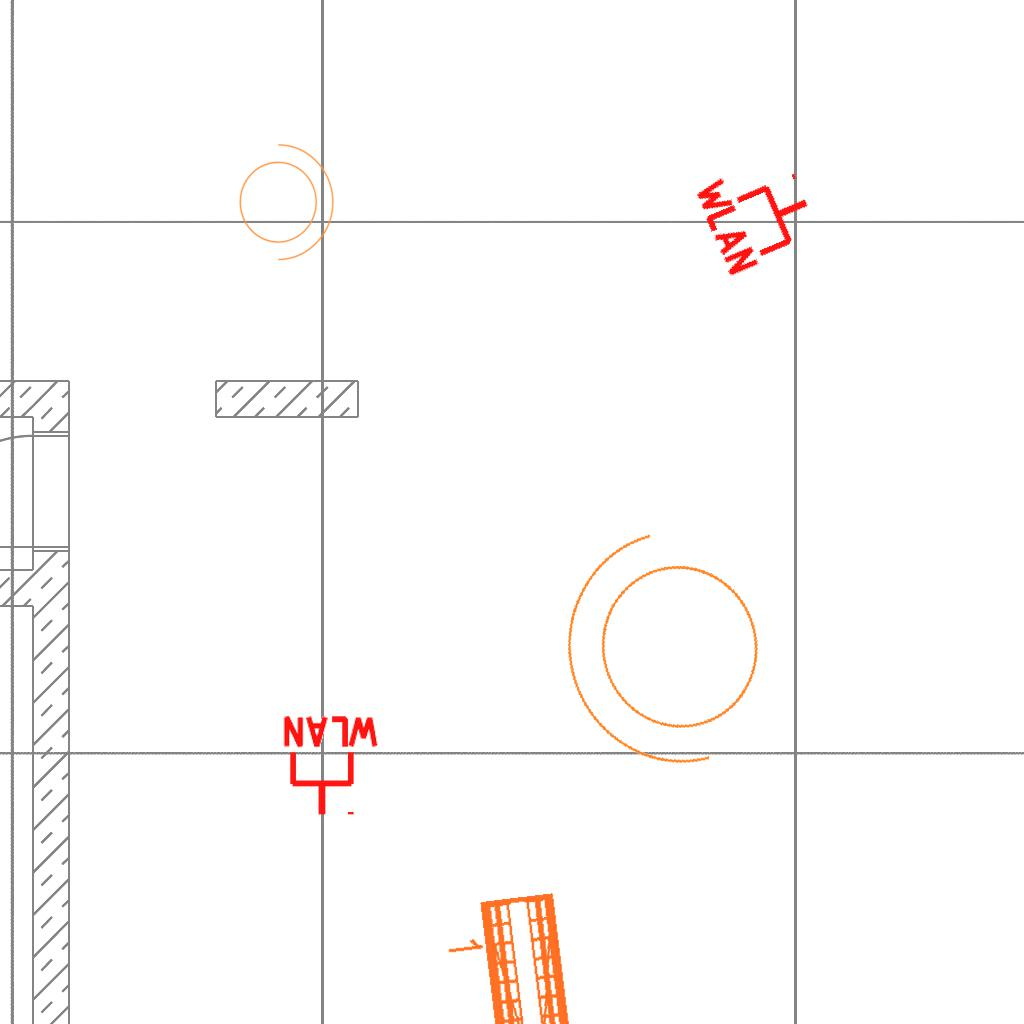Buero_Pendelleuchten_LED: (432, 885, 613, 1024)
Scheinwerfer_fuer_Alarmbeleuchtung: (529, 498, 815, 813), (227, 133, 339, 265)
WLAN: (689, 144, 828, 282), (279, 714, 383, 819)
